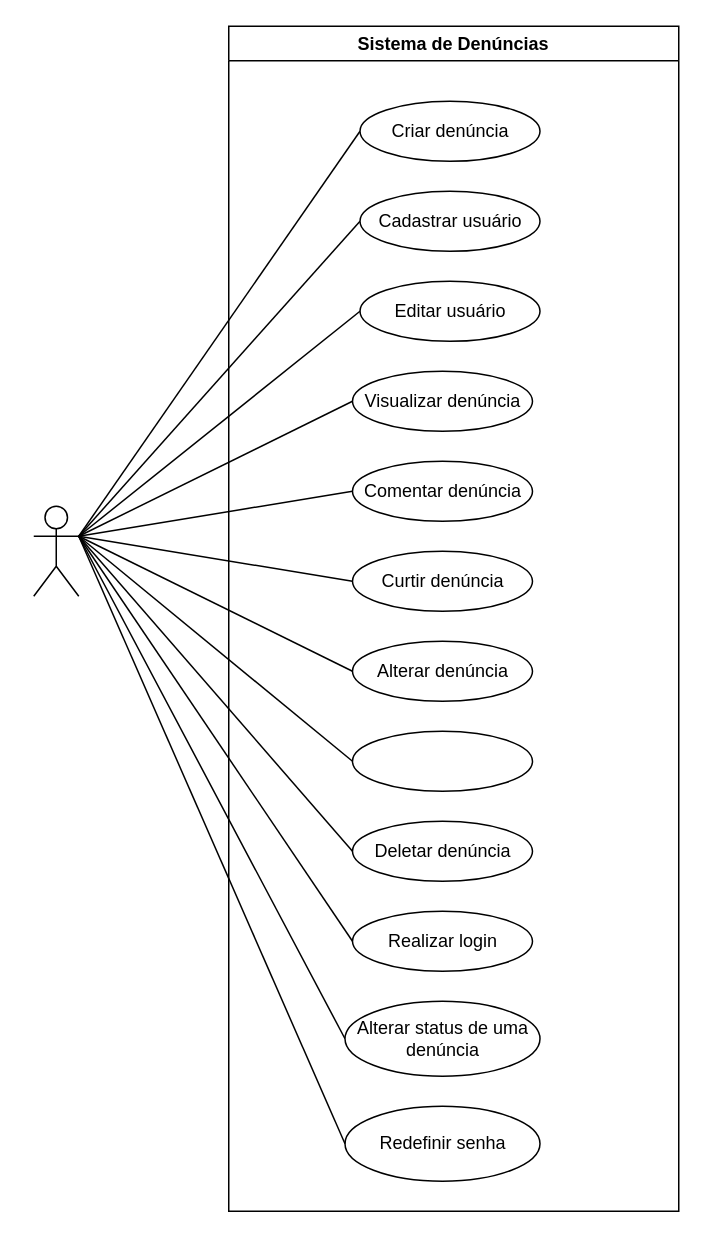
Some shapes in this 705 by 1238 pixel diagram are drawn without their labels. The centre of each missing label's shape, as x and y in pixels:
Usuário: the point at 55,550
Visualizar feed de denúncias: the point at 441,760
